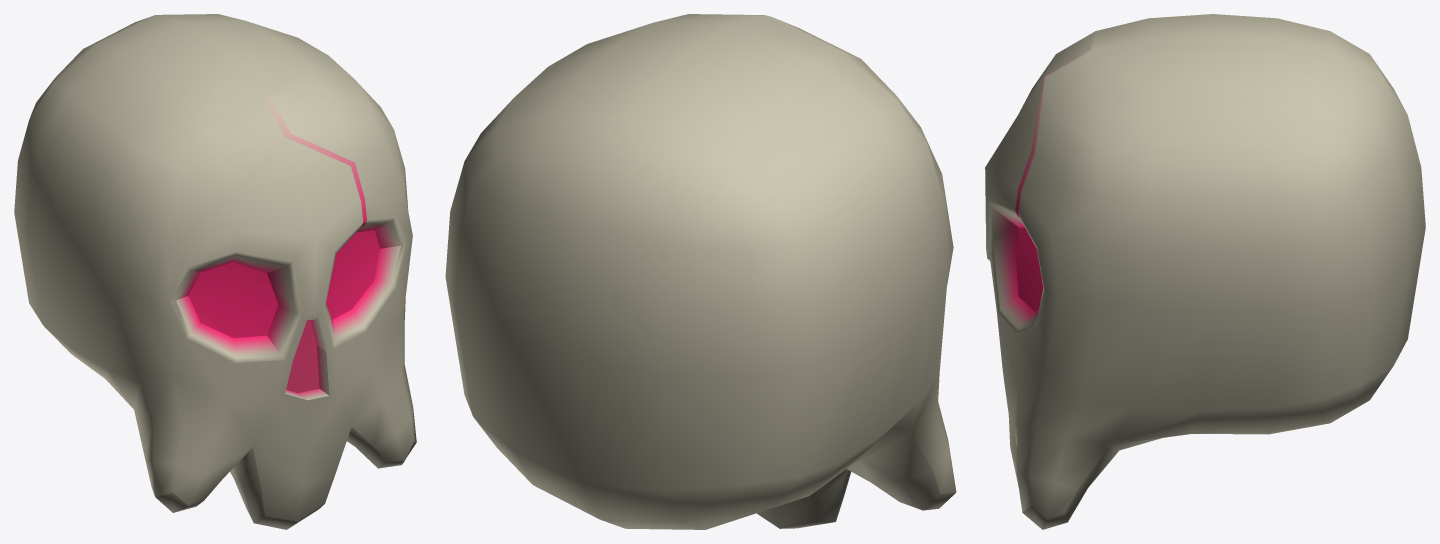
Rendered from Skull.fbx.
The picture shows the model from 3 angles, left to right: view 1: azimuth 30°, elevation 25°; view 2: azimuth 150°, elevation 25°; view 3: azimuth 270°, elevation 25°; orthographic projection. The views are drawn at different scales.
Parts seen in each view (by area): view 1: polySurface87; view 2: polySurface87; view 3: polySurface87.
Boxes of the visible parts, bbox=[...] form: polySurface87: bbox=[14, 14, 416, 529]; polySurface87: bbox=[445, 14, 956, 529]; polySurface87: bbox=[985, 14, 1425, 529].
Bounding box in the file's own units: 2.21 × 2.87 × 2.41.
